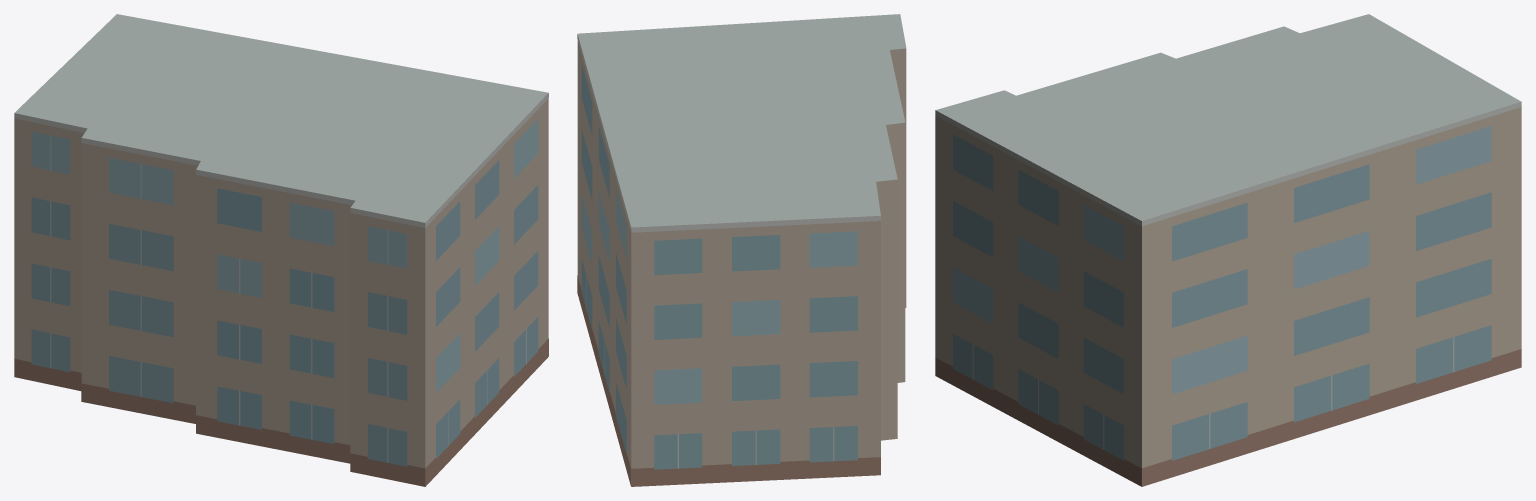
The model's file is survey-upis-32872132.glb.
3 renders of one model, left to right at view 1: azimuth 30°, elevation 25°; view 2: azimuth 150°, elevation 25°; view 3: azimuth 270°, elevation 25°, orthographic. The views are drawn at different scales.
Visible parts, largest first — view 1: survey-upis-32872132.tmp; view 2: survey-upis-32872132.tmp; view 3: survey-upis-32872132.tmp.
Part boxes in pixels (left/top/right/bottom): survey-upis-32872132.tmp: left=14, top=14, right=548, bottom=486; survey-upis-32872132.tmp: left=577, top=14, right=906, bottom=486; survey-upis-32872132.tmp: left=935, top=14, right=1521, bottom=486.
Size of the model in its own units: 20.4 by 12.2 by 24.39.
